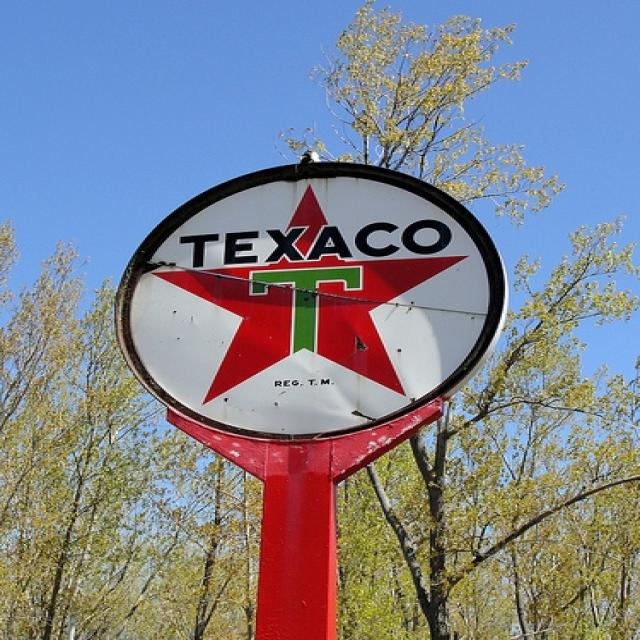texaco: (129, 177, 499, 438)
